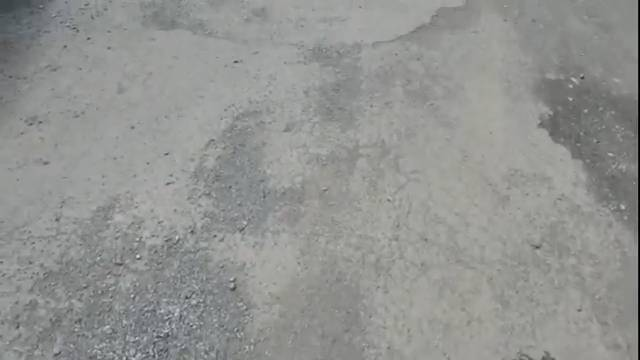pothole: (425, 264, 504, 344)
